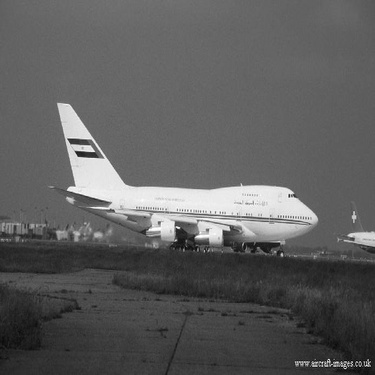airplane: (46, 95, 327, 262), (327, 194, 370, 269)
